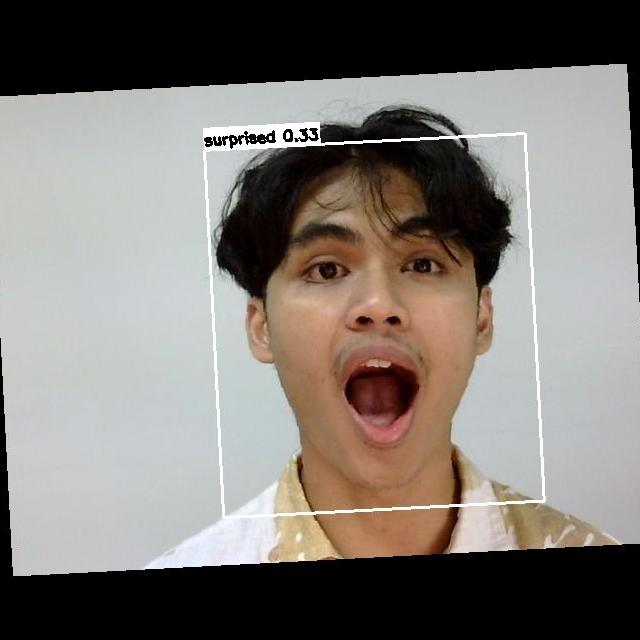Surprised: (265, 193, 487, 458)
